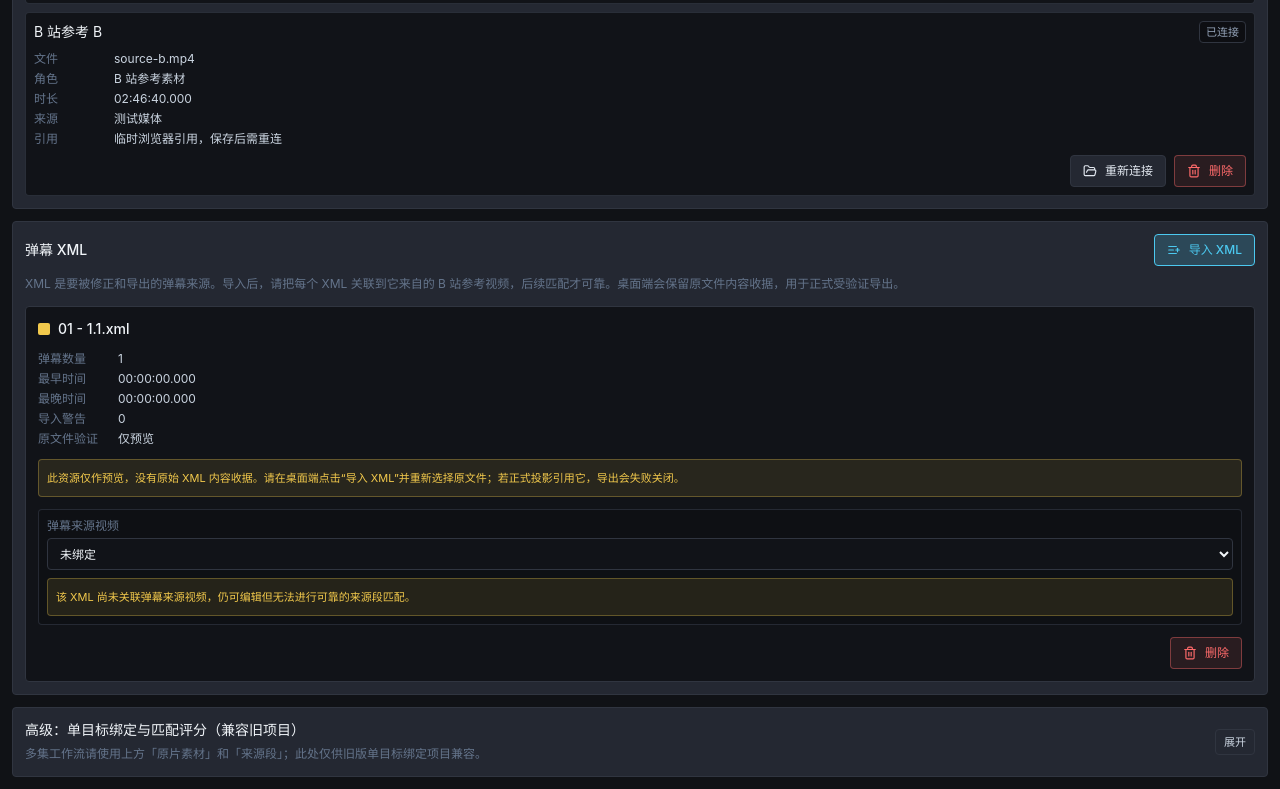
资源面板 › 弹幕素材页可以绑定、更换和解除 XML 的 B 站参考素材
The image size is (1280, 789).
(page scrolled)
Check: the text "该 XML 尚未关联弹幕来源视频，仍可编辑但无法进行可靠的来源段匹配。" is shown, box [47, 578, 1233, 616]
Select "B 站参考 A" in the dropdown labelled "弹幕来源视频" at [640, 554], box [47, 538, 1233, 570]
(page scrolled)
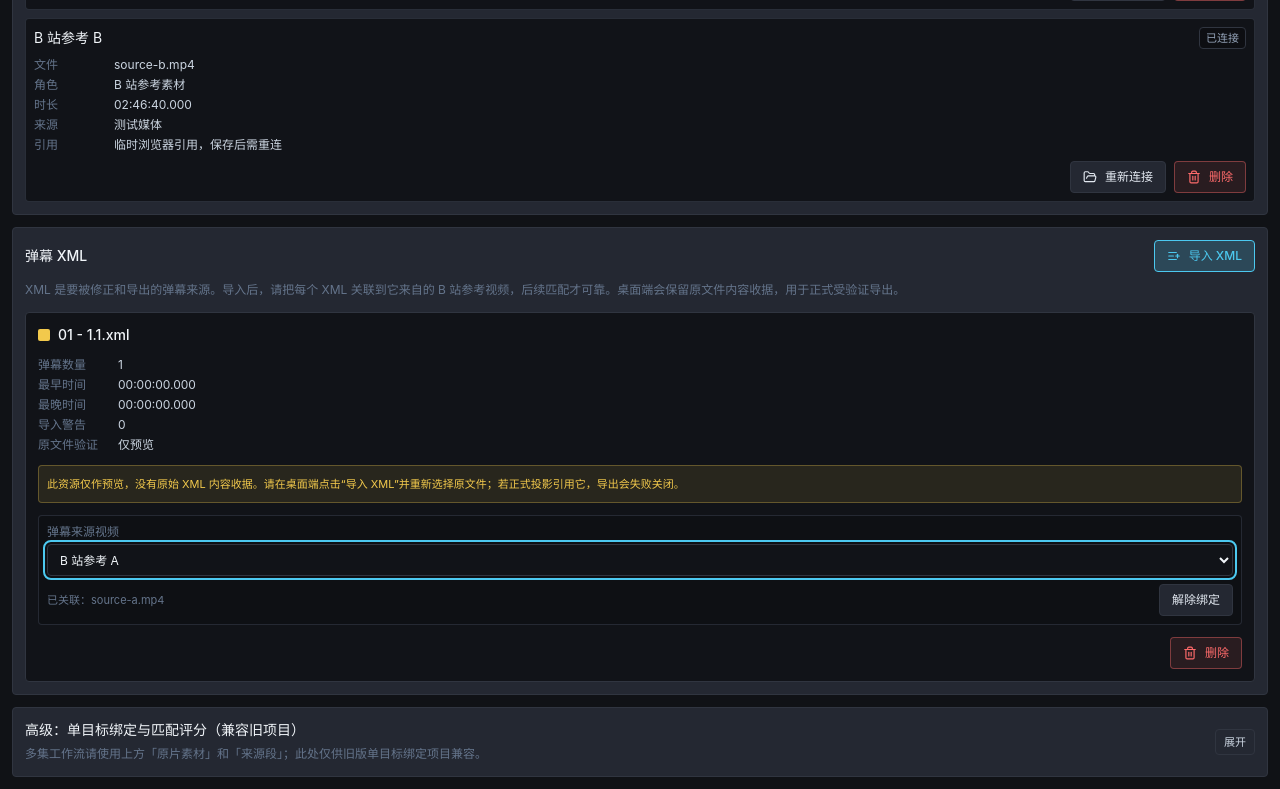
Check: the text "已关联：source-a.mp4" is shown, box [47, 592, 164, 608]
Select "B 站参考 B" in the dropdown labelled "弹幕来源视频" at [640, 560], box [47, 544, 1233, 576]
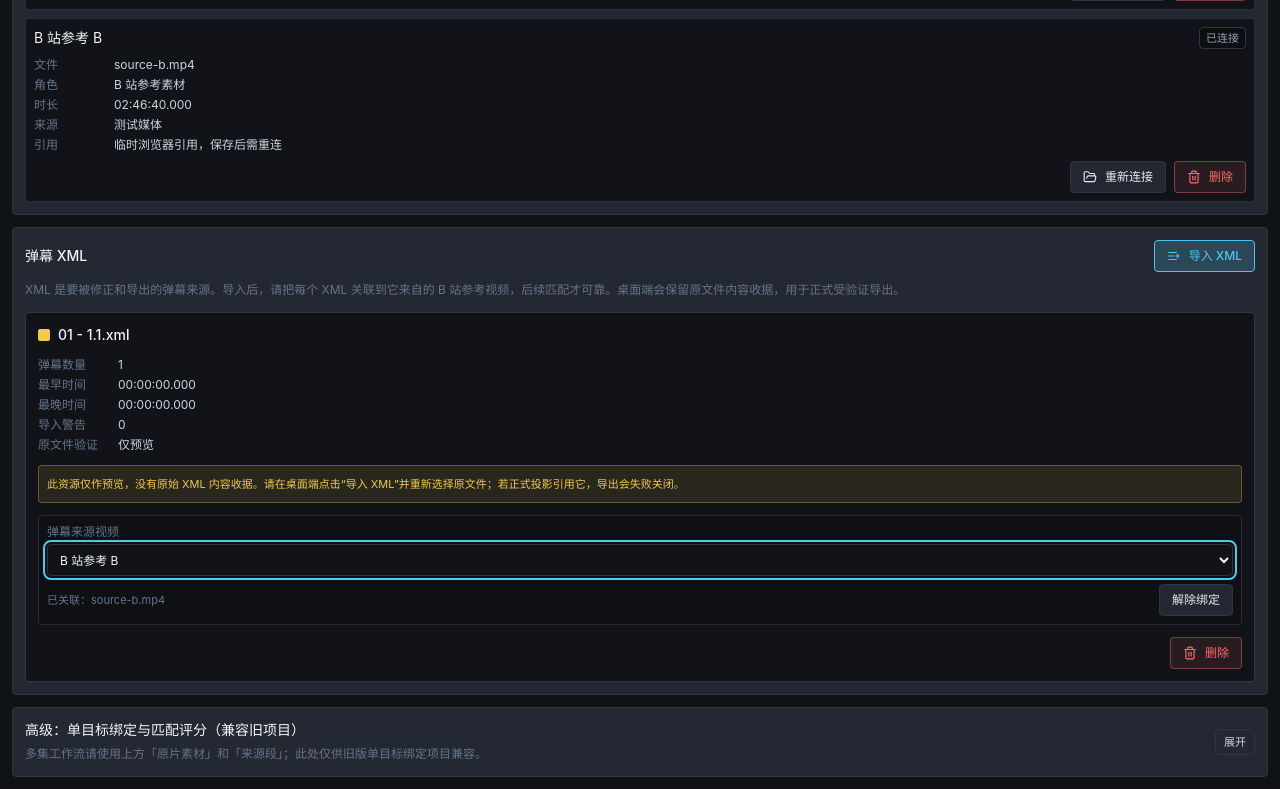
Check: the text "已关联：source-b.mp4" is shown, box [47, 592, 165, 608]
Click the button "解除绑定" at [1196, 600], box [1159, 584, 1233, 616]
(page scrolled)
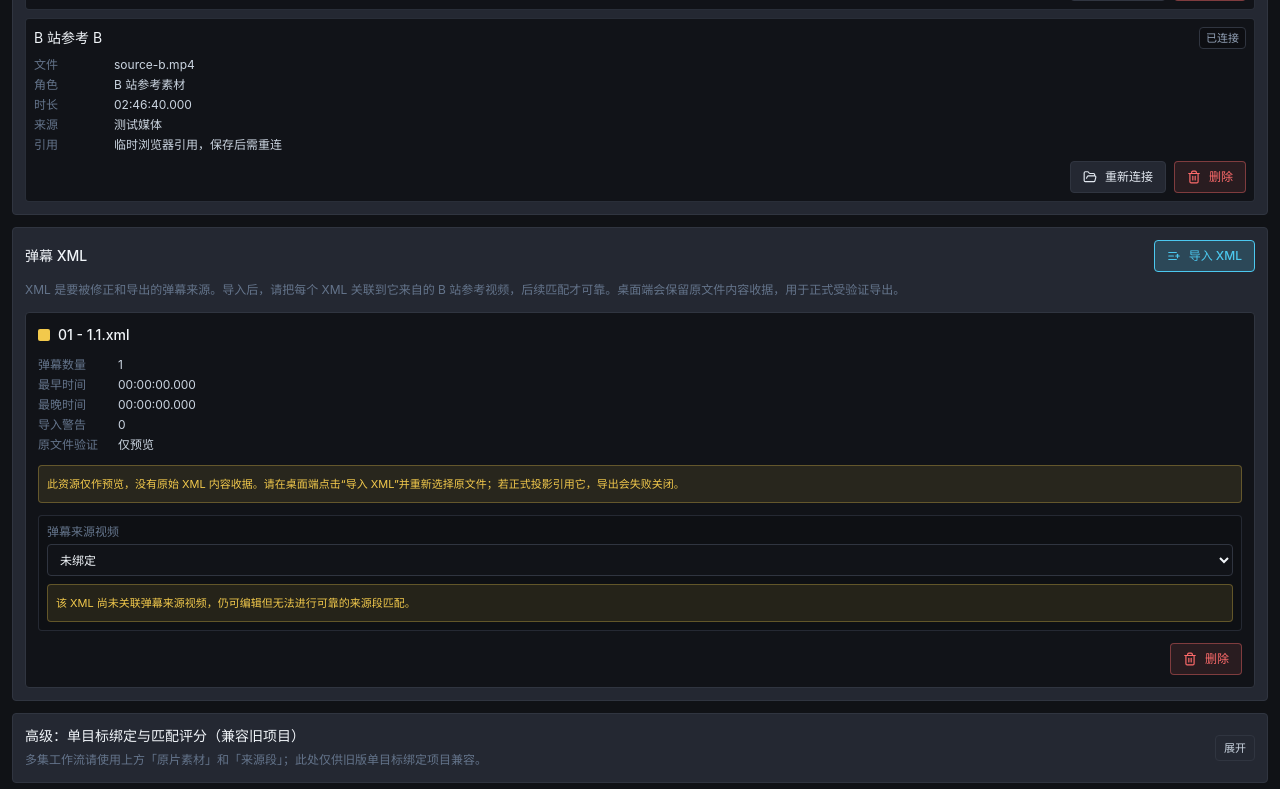
Check: the text "该 XML 尚未关联弹幕来源视频，仍可编辑但无法进行可靠的来源段匹配。" is shown, box [47, 584, 1233, 622]
